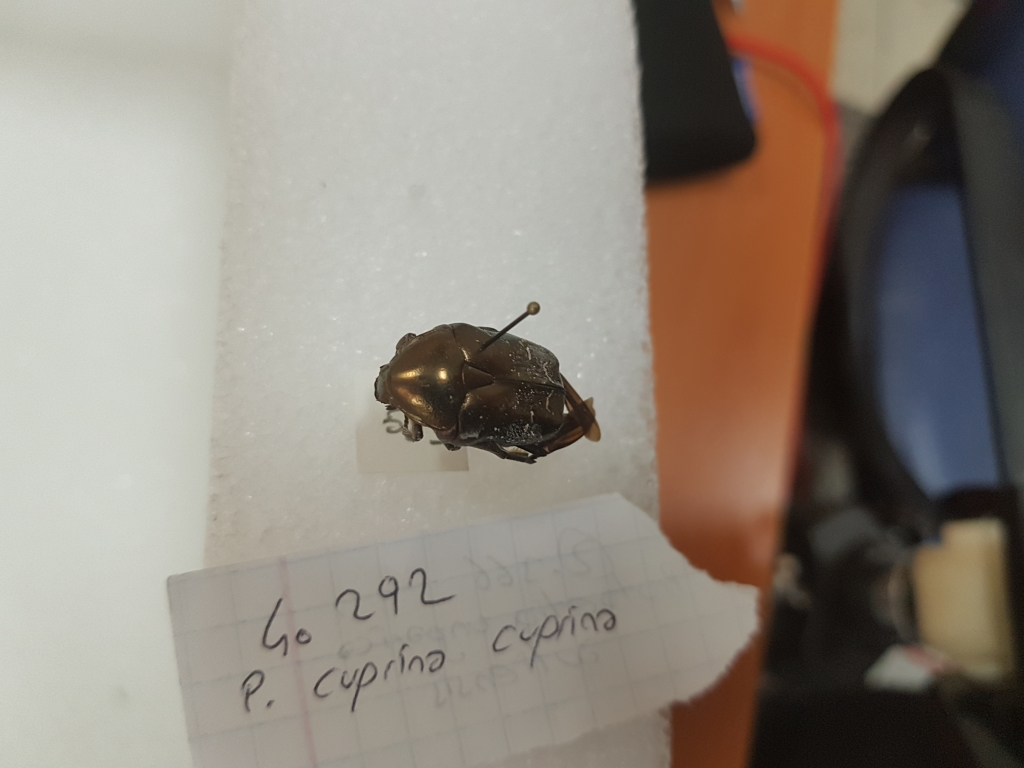Protaetia_cuprina_cuprina: (368, 314, 611, 474)
